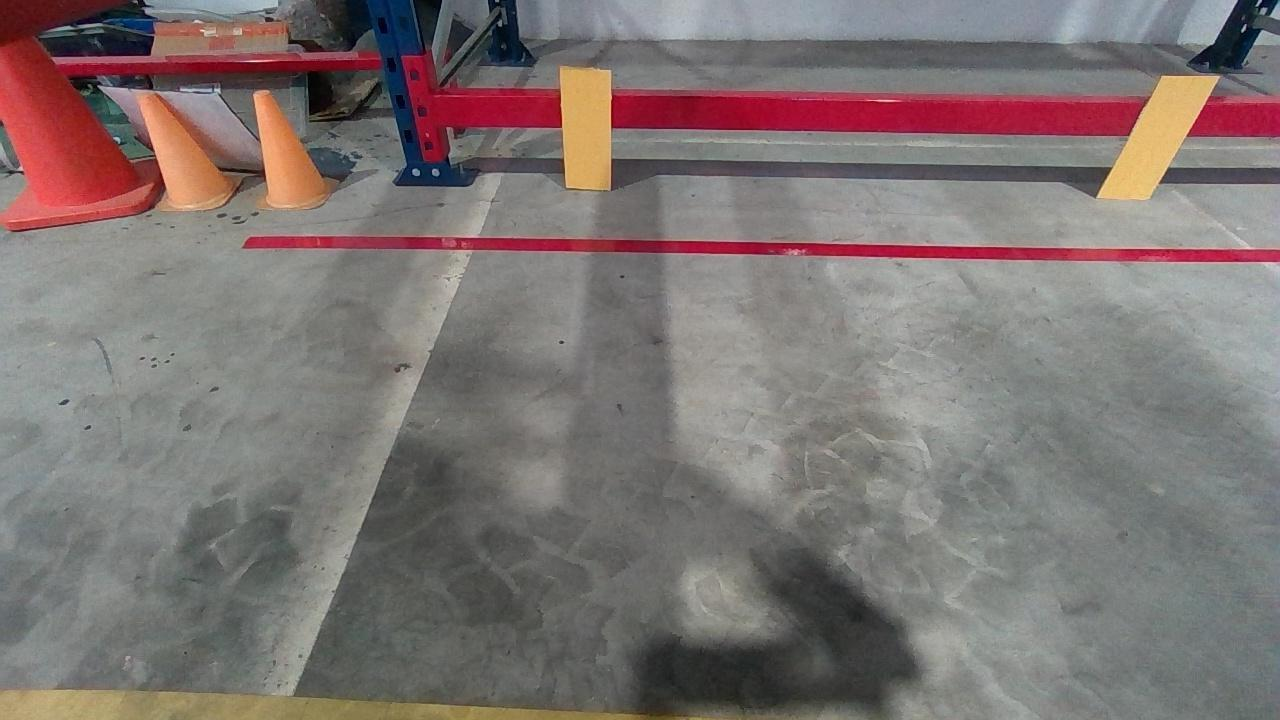h_rack: (439, 93, 1277, 138)
orange_strip: (1094, 73, 1213, 199), (558, 66, 612, 185)
red_line: (243, 232, 1278, 262)
